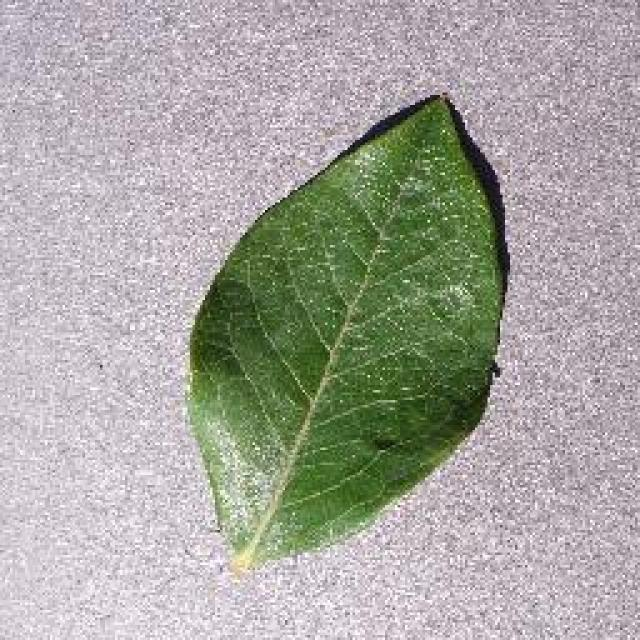Blu_healthy: (198, 170, 498, 500)
